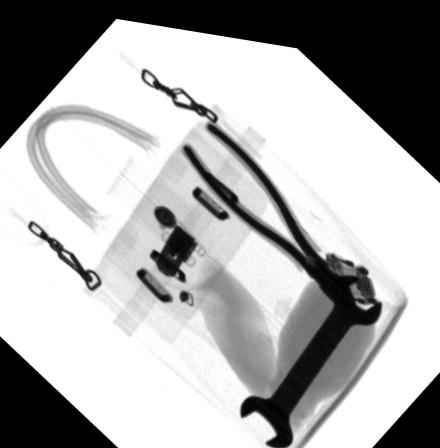Pliers: (180, 112, 357, 304)
Wrench: (240, 261, 381, 439)
